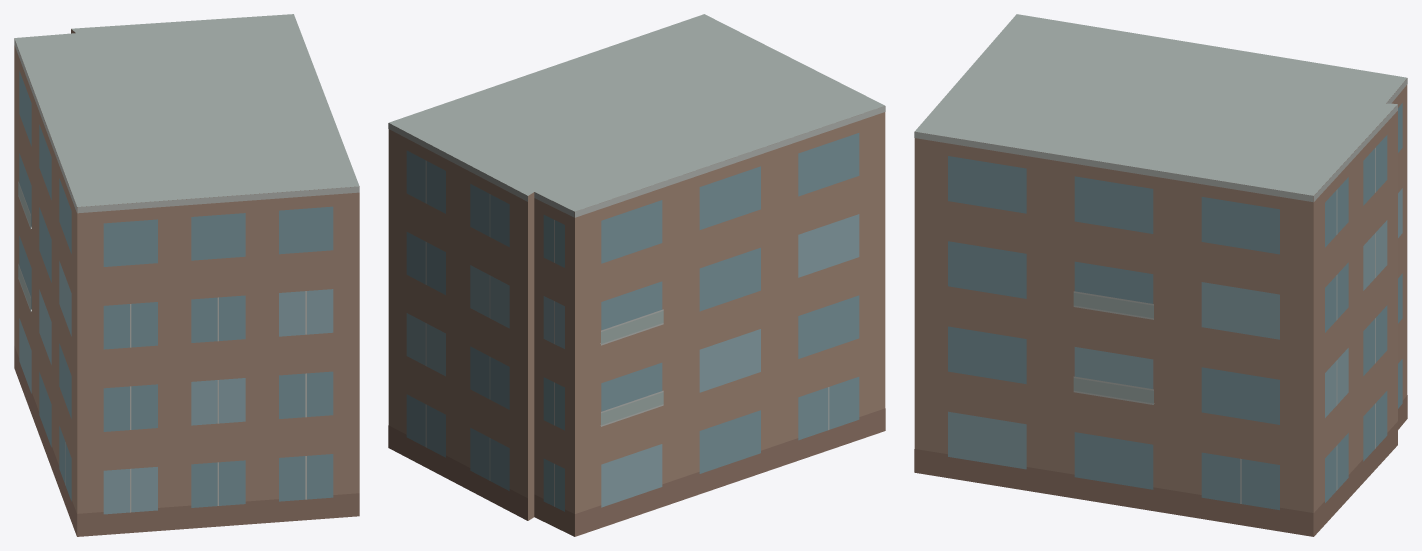
File: survey-upis-32992892.glb
The picture shows the model from 3 angles, left to right: view 1: azimuth 30°, elevation 25°; view 2: azimuth 150°, elevation 25°; view 3: azimuth 270°, elevation 25°; orthographic projection. The views are drawn at different scales.
Parts seen in each view (by area): view 1: survey-upis-32992892.tmp; view 2: survey-upis-32992892.tmp; view 3: survey-upis-32992892.tmp.
Part boxes in pixels (left/top/right/bottom): survey-upis-32992892.tmp: left=14, top=14, right=359, bottom=536; survey-upis-32992892.tmp: left=388, top=14, right=885, bottom=536; survey-upis-32992892.tmp: left=914, top=14, right=1407, bottom=536.
Bounding box in the file's own units: 14.88 × 13 × 17.04.
